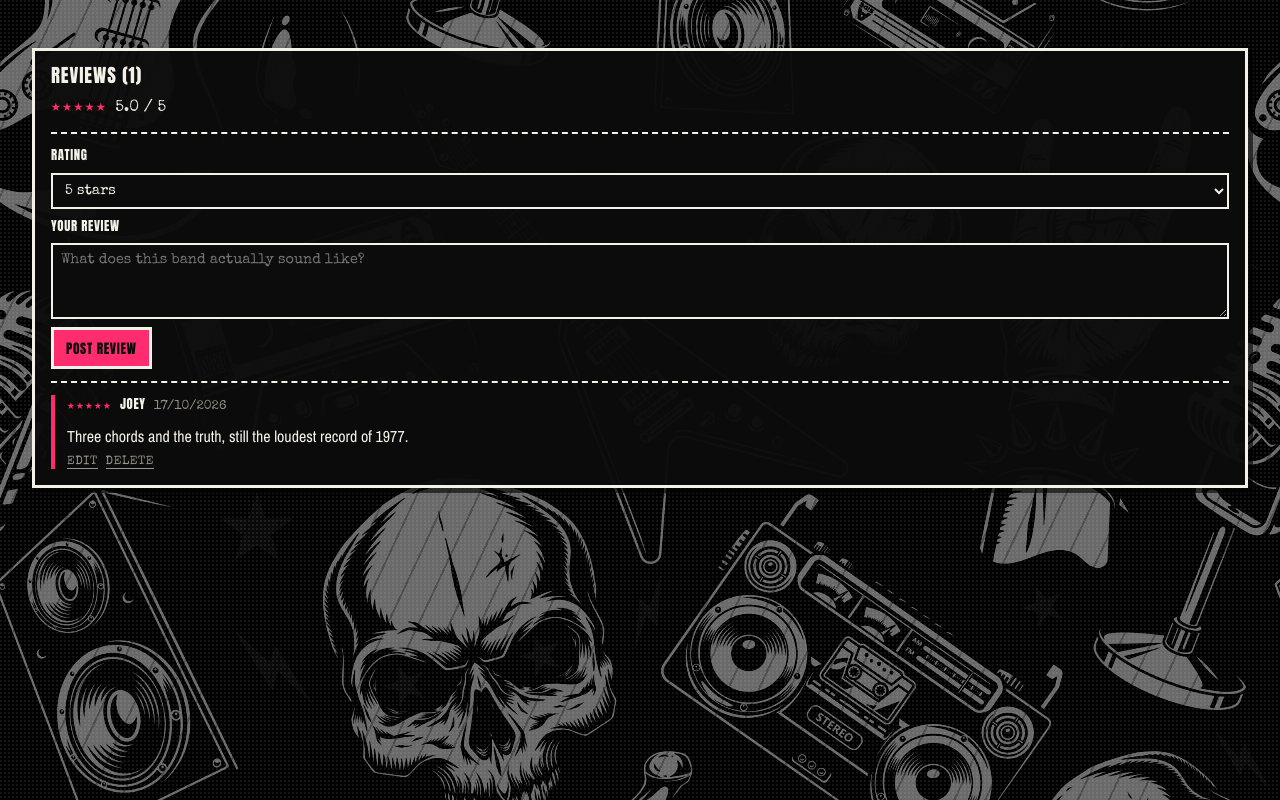
Test: BandReviews — writing › posts a review and puts it at the top of the list
The image size is (1280, 800).
Expected: the text "Three chords and the truth" is shown, [67,425,408,447]
Type "Louder than anything in 1977." into the text box labelled "Your review" at (640, 281), box [51,243,1229,319]
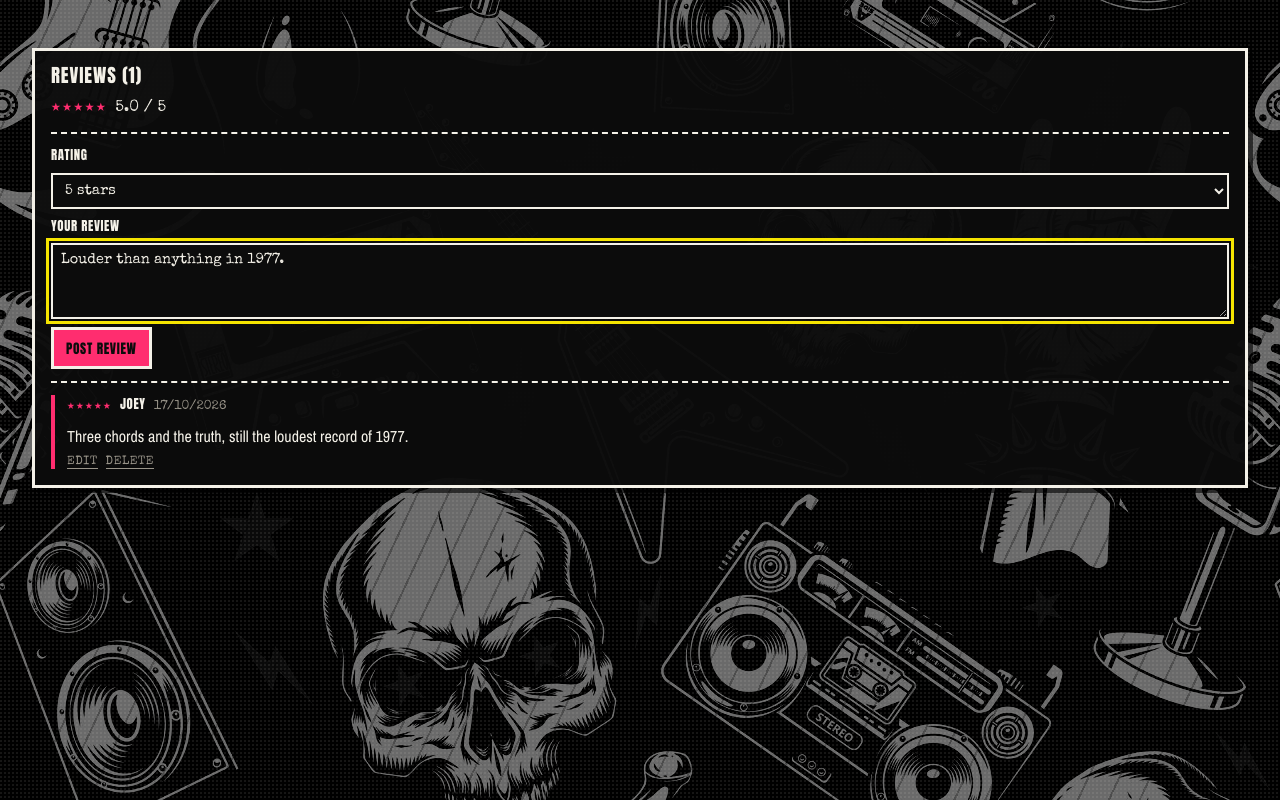
Click the button "Post review" at (101, 348), box [51,327,152,369]
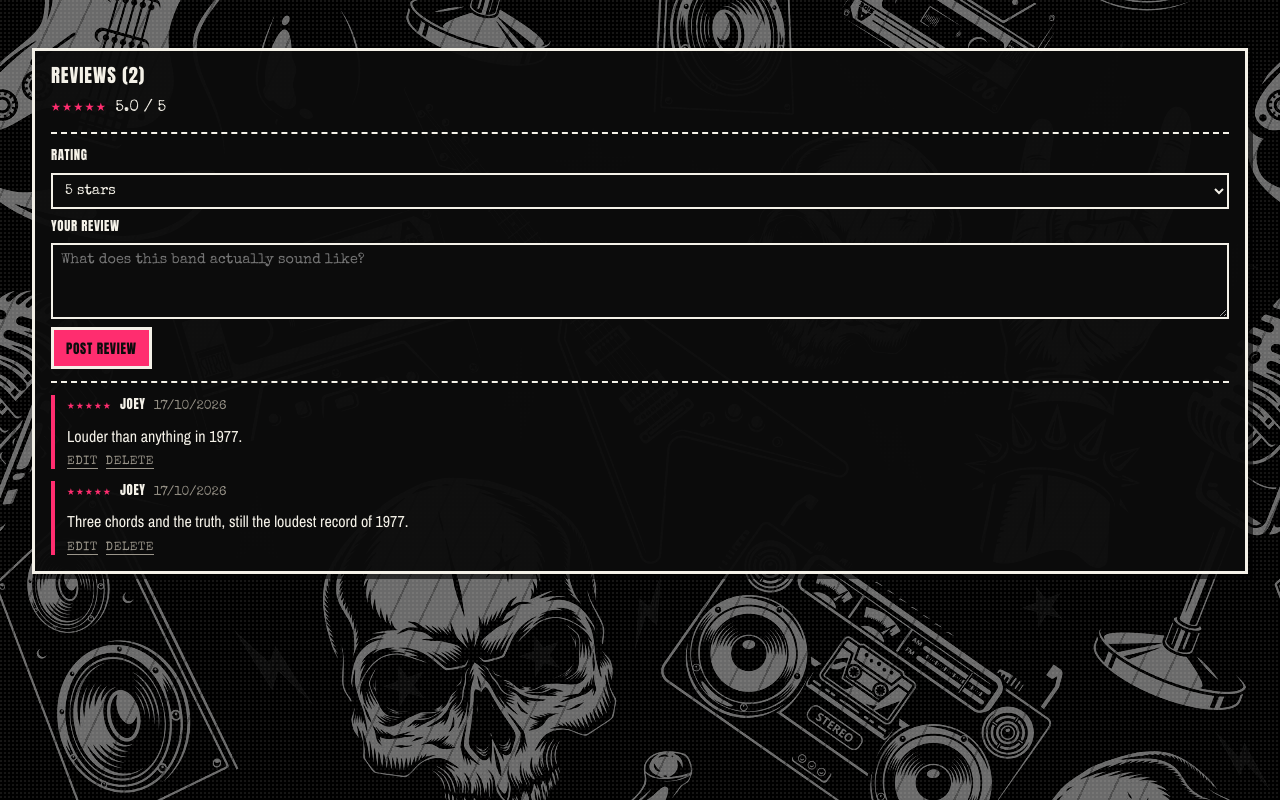
Expected: the text "Louder than anything in 1977." is shown, [67,425,242,447]
